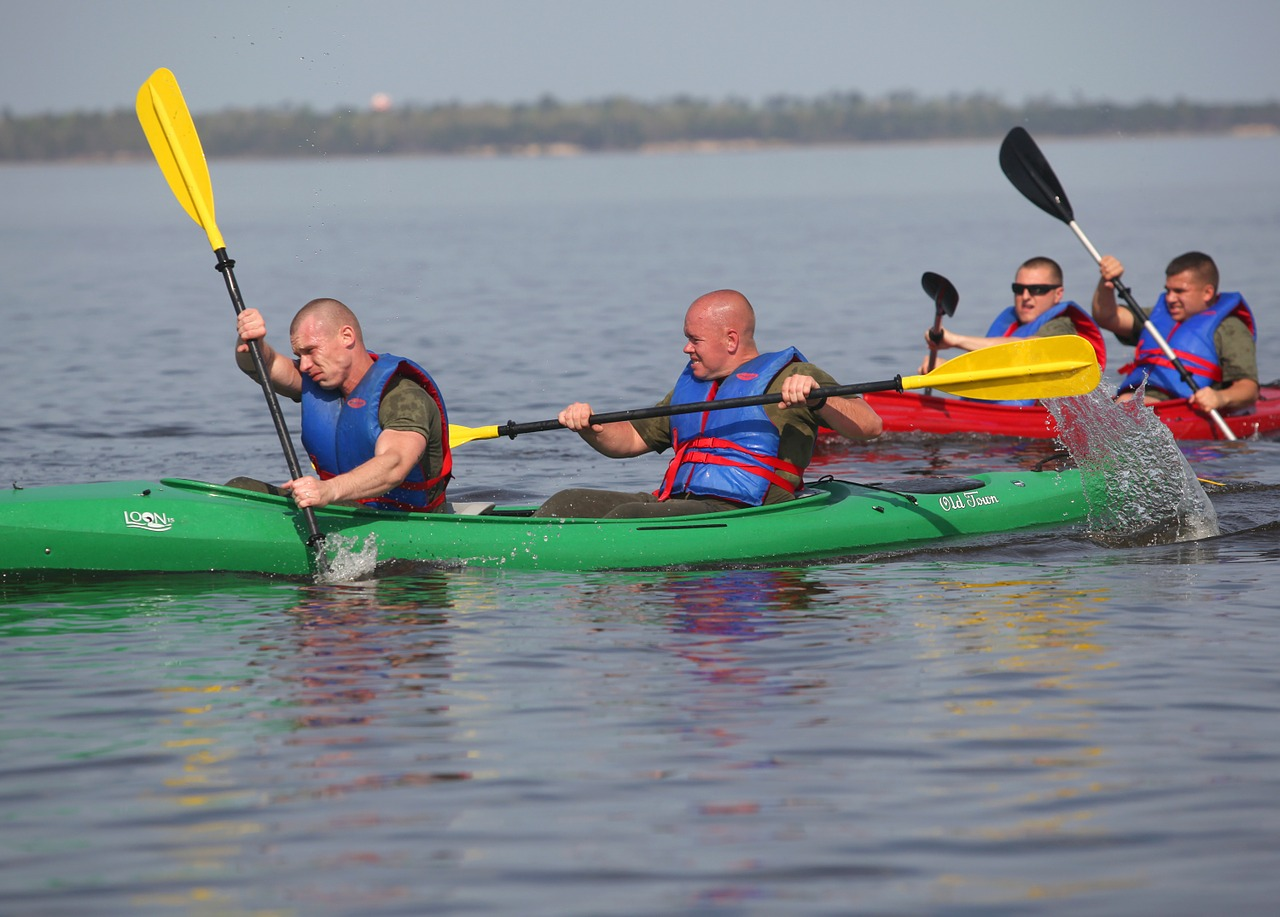kayak: (1, 454, 1176, 589)
